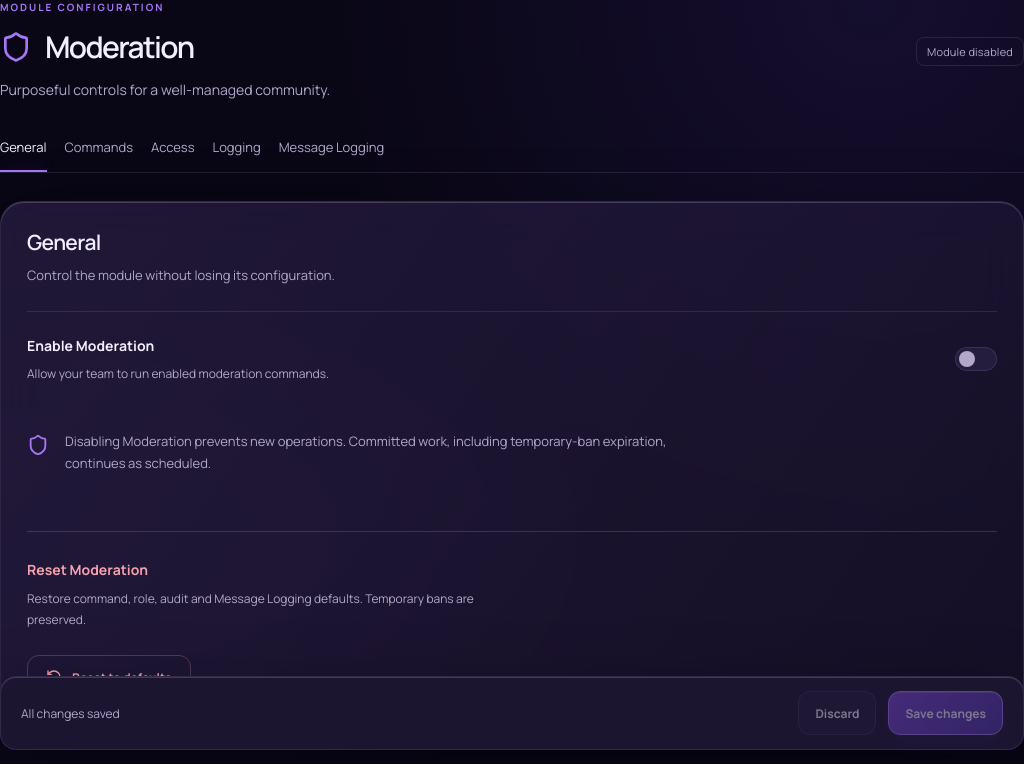
Test: administration interactions › keeps the draft and explains a stale revision
What coordinates should you click on to do the following:
click the switch
I would click on:
 (976, 359)
Its box is [955,347,997,371].
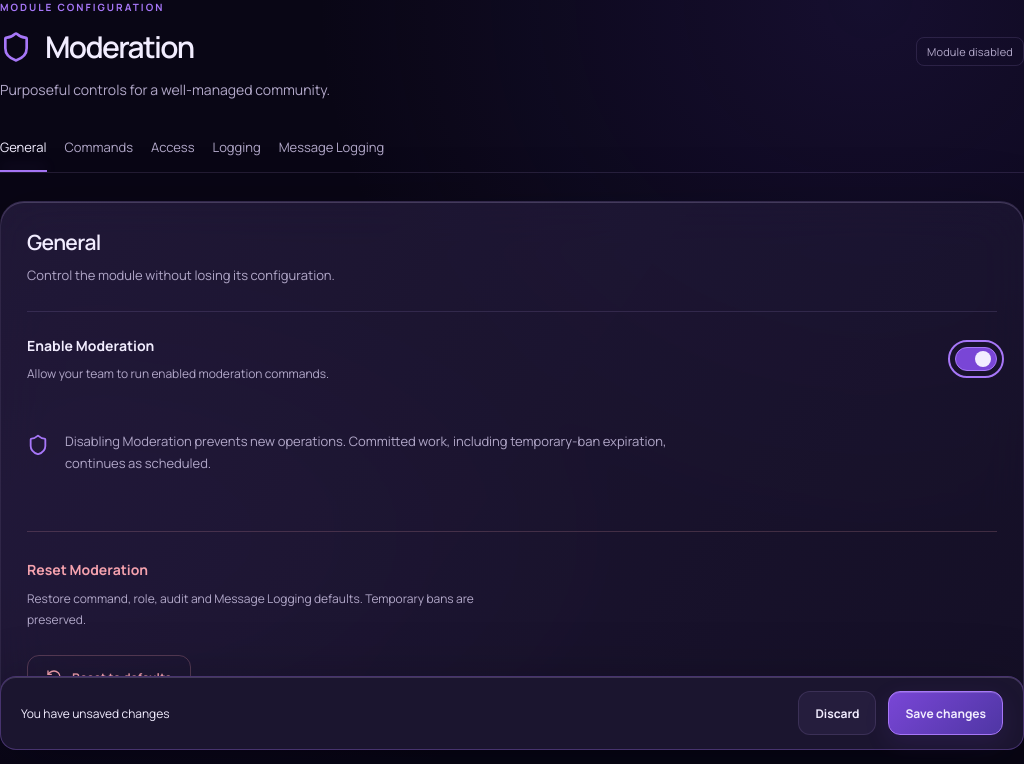
What coordinates should you click on to do the following:
click the button "Save changes"
I would click on:
 (946, 713)
Its box is [888,691,1003,735].
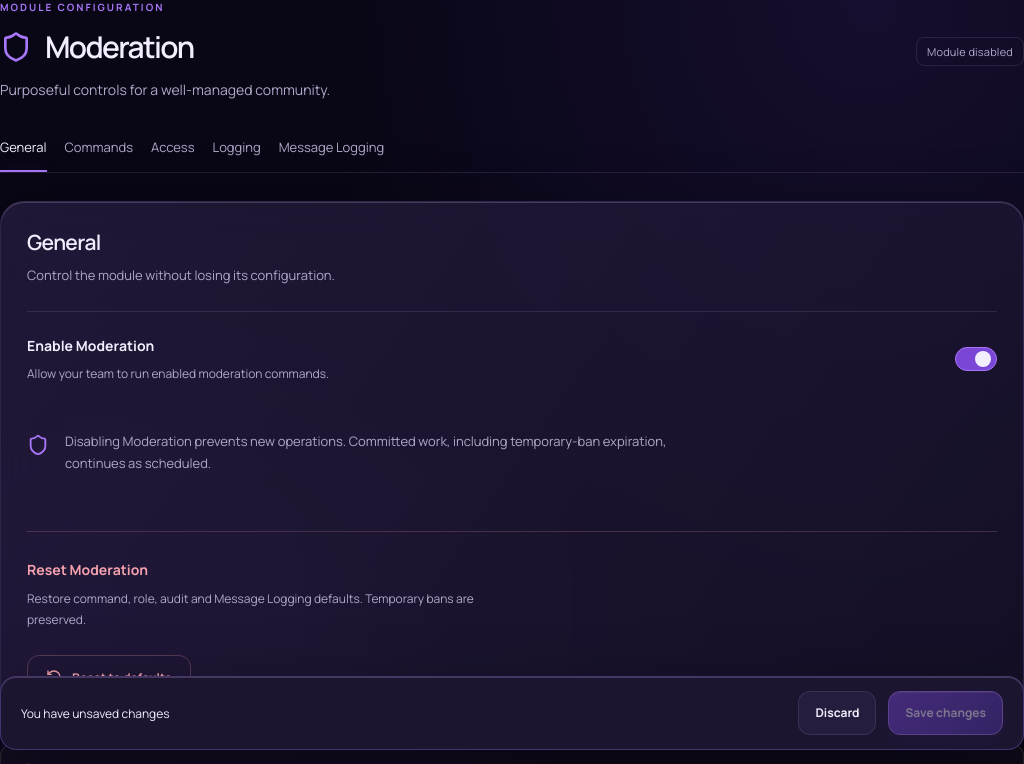
Check: the button "Save changes" is disabled, box [888,691,1003,735]
